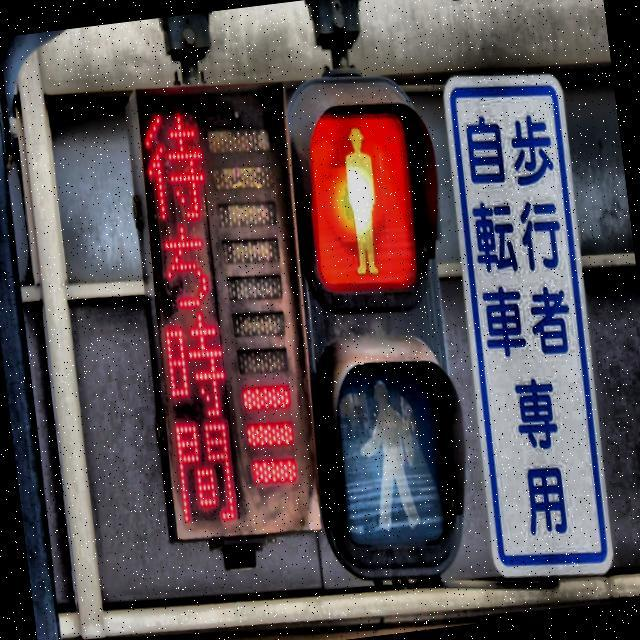red_light: (337, 122, 388, 280)
